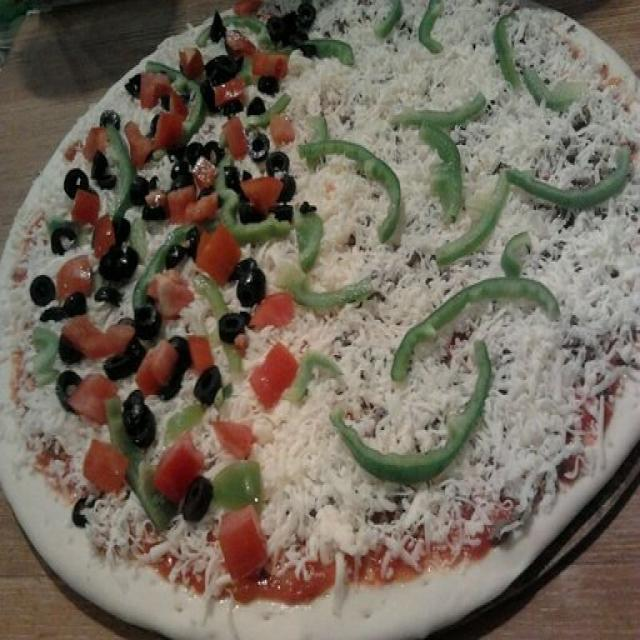Green Pepper: (330, 345, 498, 504), (300, 130, 415, 230), (97, 403, 179, 525), (437, 164, 509, 268), (192, 266, 256, 381), (137, 57, 219, 139), (124, 224, 186, 320), (510, 161, 632, 207), (444, 272, 556, 320), (390, 295, 448, 381), (420, 120, 466, 223), (281, 332, 343, 406), (97, 117, 140, 220), (287, 268, 372, 316), (391, 92, 490, 132), (522, 68, 588, 116), (195, 19, 279, 54), (157, 392, 214, 443), (490, 15, 526, 88), (212, 459, 265, 503), (310, 31, 363, 65), (416, 0, 444, 64), (35, 315, 60, 384), (375, 0, 413, 35), (503, 233, 533, 271)
Olives: (272, 160, 318, 225), (224, 159, 265, 227), (269, 7, 319, 60), (244, 124, 294, 172), (123, 380, 157, 446), (96, 234, 138, 284), (99, 338, 143, 382), (172, 478, 214, 518), (38, 297, 93, 325), (129, 166, 165, 208), (185, 127, 225, 164), (165, 340, 189, 400), (127, 296, 163, 335), (25, 270, 63, 306), (40, 217, 79, 252), (237, 257, 263, 301), (210, 48, 248, 78), (50, 369, 80, 407), (196, 368, 220, 409), (207, 6, 230, 41), (256, 70, 281, 99), (197, 83, 219, 114), (61, 499, 85, 527), (97, 147, 115, 182), (220, 313, 248, 335), (98, 275, 116, 309), (169, 159, 192, 184), (164, 241, 185, 268), (60, 167, 86, 188), (218, 91, 245, 111), (247, 92, 269, 113), (139, 204, 162, 222), (99, 105, 117, 125), (130, 76, 144, 91)
Pizza: (0, 0, 640, 635)
Tomato: (218, 501, 268, 570), (254, 336, 300, 400), (154, 436, 194, 509), (209, 412, 258, 462), (68, 321, 127, 357), (160, 184, 216, 220), (78, 442, 121, 482), (192, 230, 234, 270), (140, 343, 174, 387), (56, 259, 94, 298), (67, 383, 109, 418), (188, 328, 214, 376), (80, 129, 114, 159), (75, 193, 98, 230), (88, 229, 117, 251)
